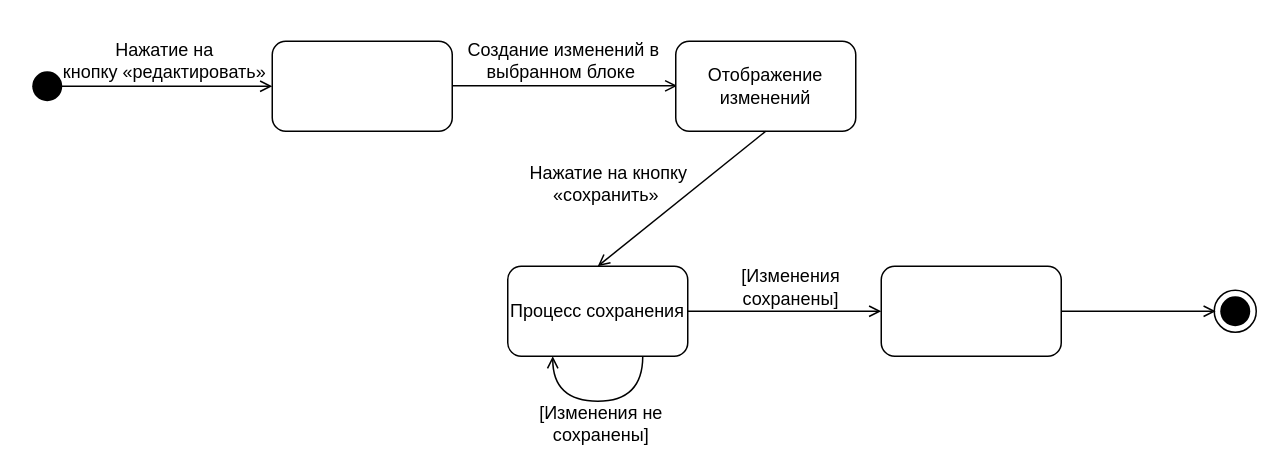
The diagram is 1283 pixels wide and 471 high, and some of its shapes have lost their labels. The centre of each missing label's shape, as x and y in pixels:
Блок отредактирован: the point at 970,310
Переход в режим редактирования: the point at 361,85
